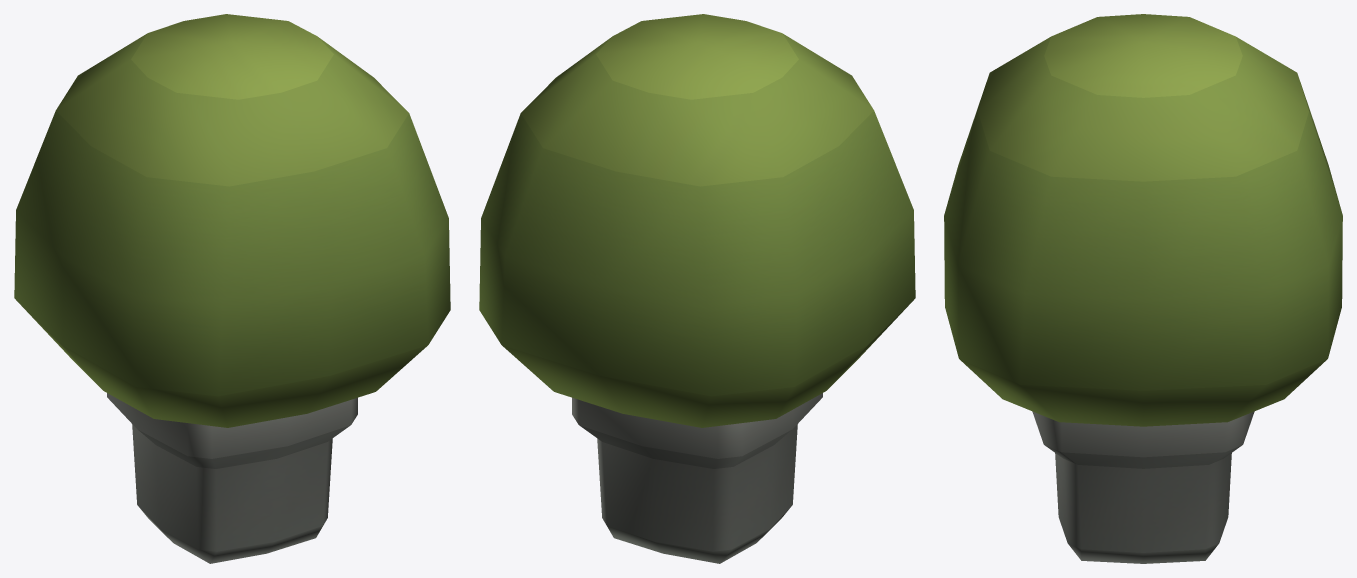
File: bush_plant_small_pot.fbx
3 views of the same model, side by side, from view 1: azimuth 30°, elevation 25°; view 2: azimuth 150°, elevation 25°; view 3: azimuth 270°, elevation 25° (orthographic).
Parts seen in each view (by area): view 1: bush_plant_small_pot; view 2: bush_plant_small_pot; view 3: bush_plant_small_pot.
Boxes of the visible parts, bbox=[...] form: bush_plant_small_pot: bbox=[14, 14, 450, 563]; bush_plant_small_pot: bbox=[479, 14, 915, 563]; bush_plant_small_pot: bbox=[944, 14, 1342, 563].
Bounding box in the file's own units: 52.52 × 71.57 × 52.52.
